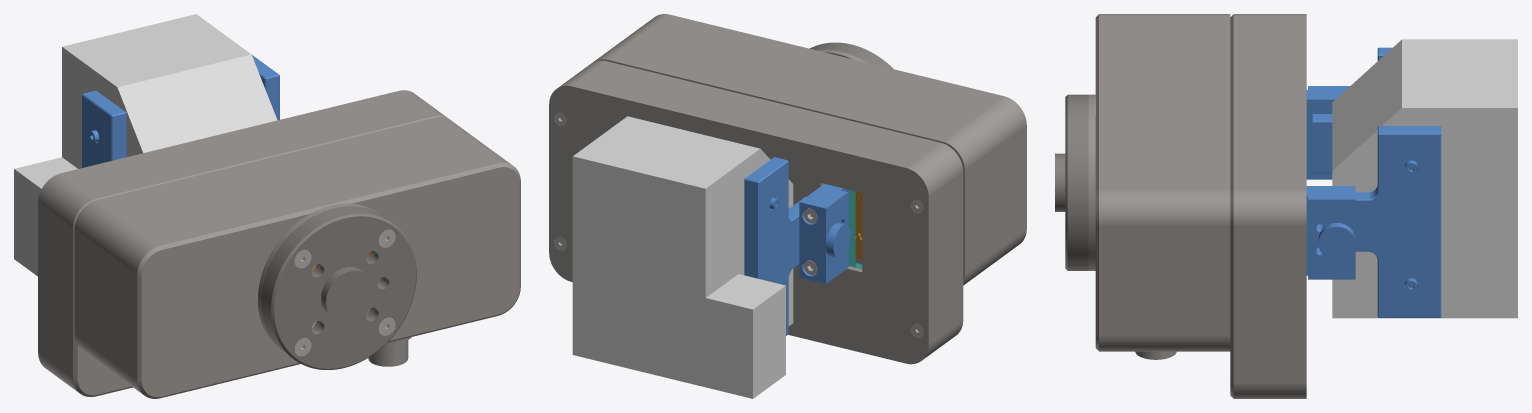
Rendered from gripper.glb.
The picture shows the model from 3 angles, left to right: view 1: azimuth 30°, elevation 25°; view 2: azimuth 150°, elevation 25°; view 3: azimuth 270°, elevation 25°; orthographic projection. The views are drawn at different scales.
Parts seen in each view (by area): view 1: Hood, PartB, Housing, Adapter_ISO9409, Jaw_L, Cover, Cable_Gland_Lapp_SKINTOP_M16, Jaw_R; view 2: PartB, Cover, Hood, Housing, Jaw_L, Holder_L, Thumbscrew_DIN653-M5x20_L, Adapter_ISO9409, Slide_L; view 3: Hood, PartB, Housing, Jaw_R, Adapter_ISO9409, Holder_R, Cover, Holder_L, Jaw_L, Thumbscrew_DIN653-M5x20_R.
Boxes of the visible parts, x1=… form: Hood: x1=74, y1=117, x2=520, y2=398; PartB: x1=14, y1=14, x2=277, y2=276; Housing: x1=41, y1=92, x2=448, y2=396; Adapter_ISO9409: x1=261, y1=206, x2=416, y2=369; Jaw_L: x1=82, y1=90, x2=126, y2=167; Cover: x1=38, y1=90, x2=415, y2=368; Cable_Gland_Lapp_SKINTOP_M16: x1=368, y1=337, x2=411, y2=366; Jaw_R: x1=252, y1=55, x2=279, y2=120; PartB: x1=572, y1=116, x2=793, y2=398; Cover: x1=549, y1=83, x2=931, y2=364; Hood: x1=593, y1=14, x2=1026, y2=285; Housing: x1=562, y1=60, x2=963, y2=357; Jaw_L: x1=744, y1=157, x2=805, y2=335; Holder_L: x1=799, y1=184, x2=848, y2=283; Thumbscrew_DIN653-M5x20_L: x1=826, y1=223, x2=850, y2=258; Adapter_ISO9409: x1=810, y1=42, x2=893, y2=69; Slide_L: x1=847, y1=189, x2=855, y2=267; Hood: x1=1088, y1=14, x2=1230, y2=351; PartB: x1=1332, y1=39, x2=1517, y2=318; Housing: x1=1230, y1=14, x2=1299, y2=398; Jaw_R: x1=1355, y1=126, x2=1441, y2=317; Adapter_ISO9409: x1=1055, y1=94, x2=1088, y2=270; Holder_R: x1=1306, y1=186, x2=1355, y2=279; Cover: x1=1300, y1=14, x2=1306, y2=398; Holder_L: x1=1306, y1=86, x2=1349, y2=179; Jaw_L: x1=1312, y1=47, x2=1392, y2=173; Thumbscrew_DIN653-M5x20_R: x1=1318, y1=223, x2=1355, y2=260.
Size of the model in its own units: 200 by 112 by 200.
